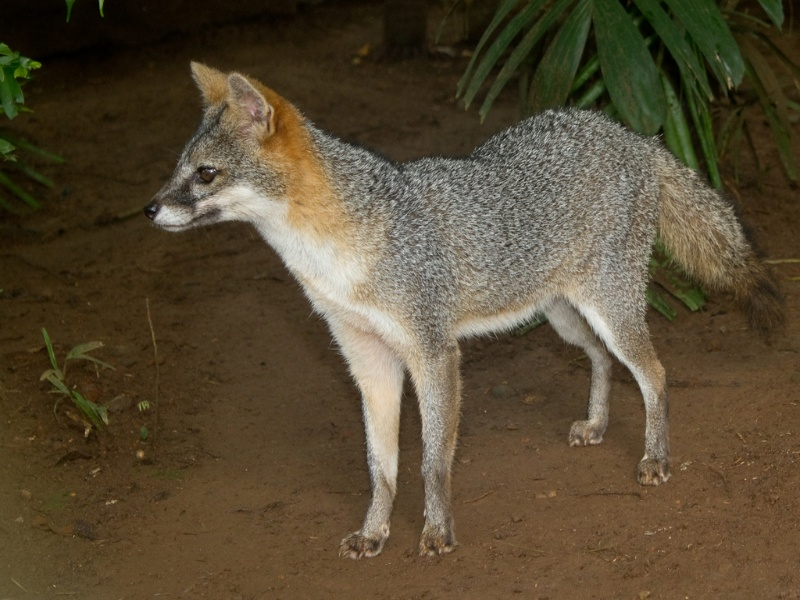fox: (143, 59, 755, 564)
